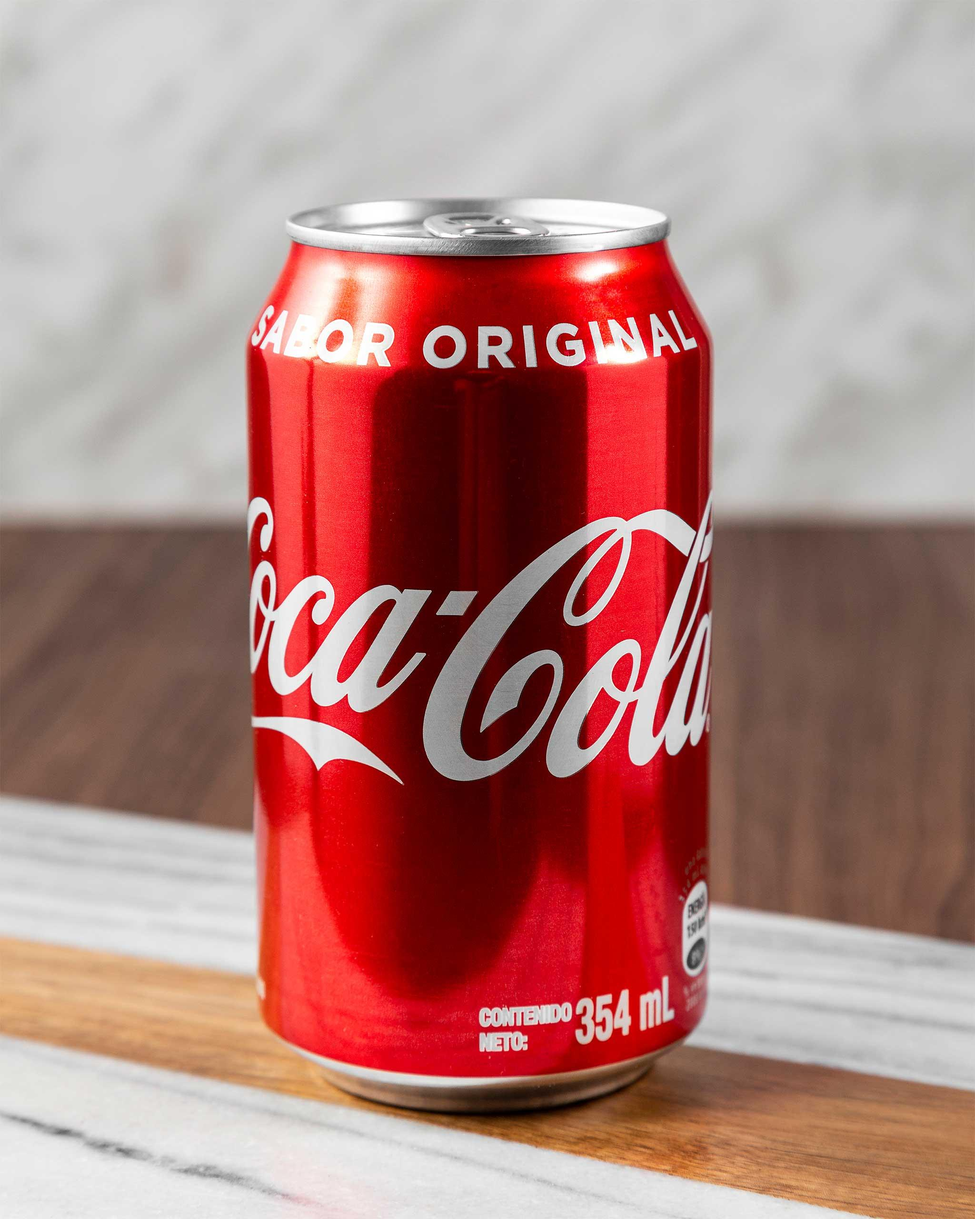metal: (246, 198, 713, 1113)
